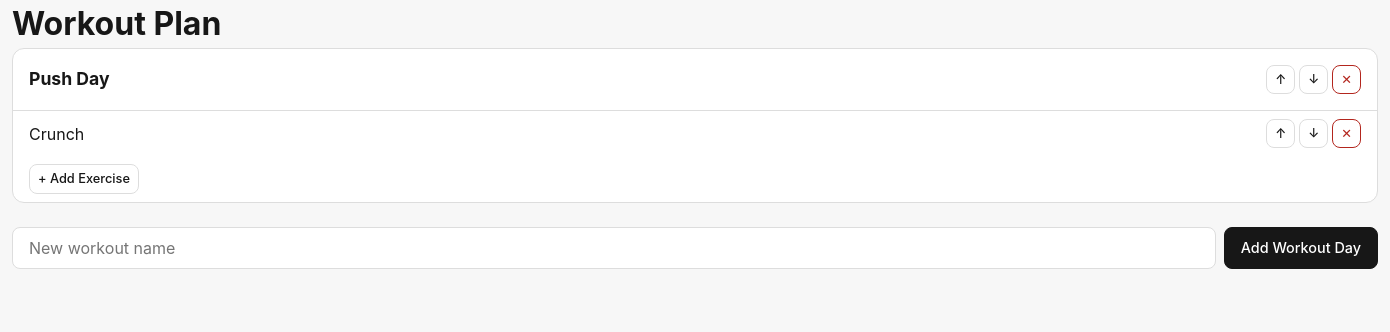
PlanPage with a server-backed plan › saves added exercises using the backend contract (exercise, target_sets)
The width and height of the screenshot is (1390, 332).
Expected: the heading "Push Day" is shown, [29, 66, 110, 93]
Click the button "+ Add Exercise" at (84, 179), box [29, 164, 139, 194]
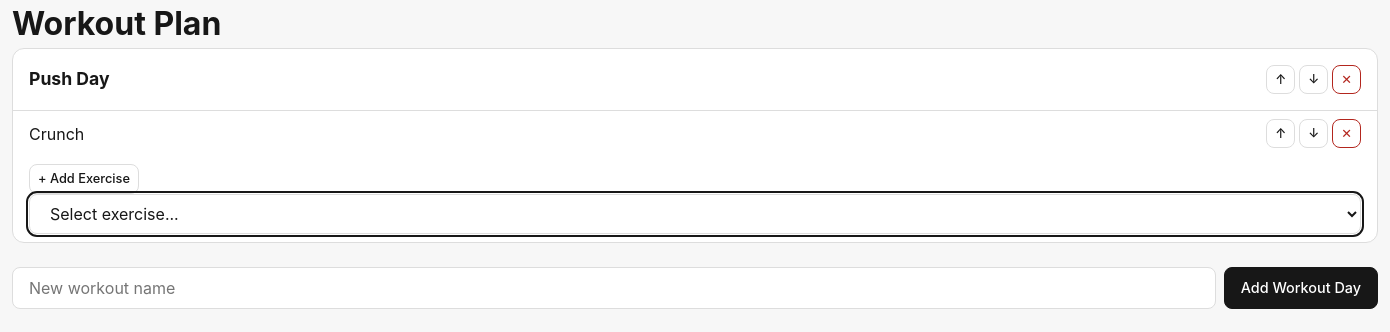
Select "My Custom" in the dropdown at (695, 214), box [29, 194, 1361, 234]
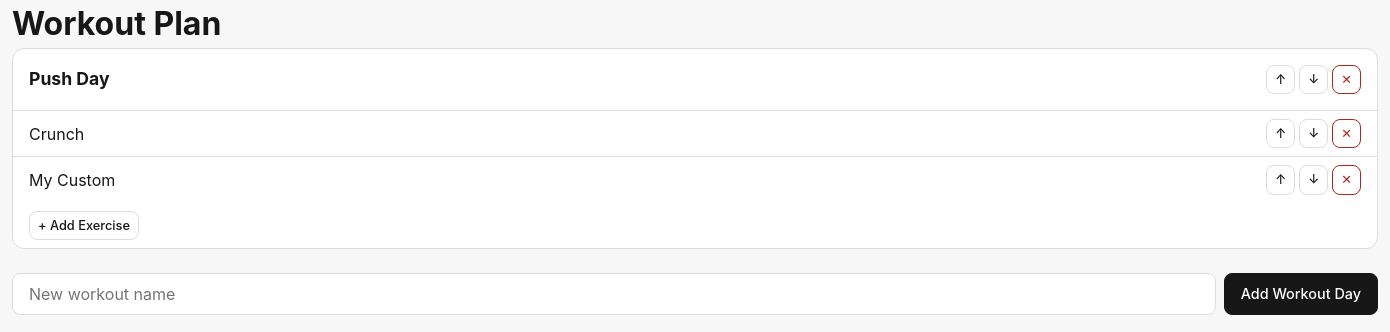
Expected: the text "My Custom" is shown, [29, 168, 115, 192]
